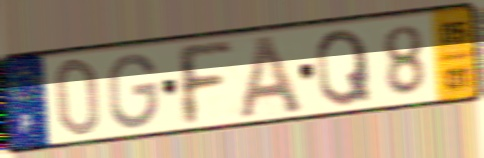0: (52, 56, 102, 140)
8: (380, 22, 429, 98)
A: (236, 32, 306, 122)
F: (171, 39, 237, 129)
G: (106, 51, 160, 132)
Q: (313, 25, 375, 109)
